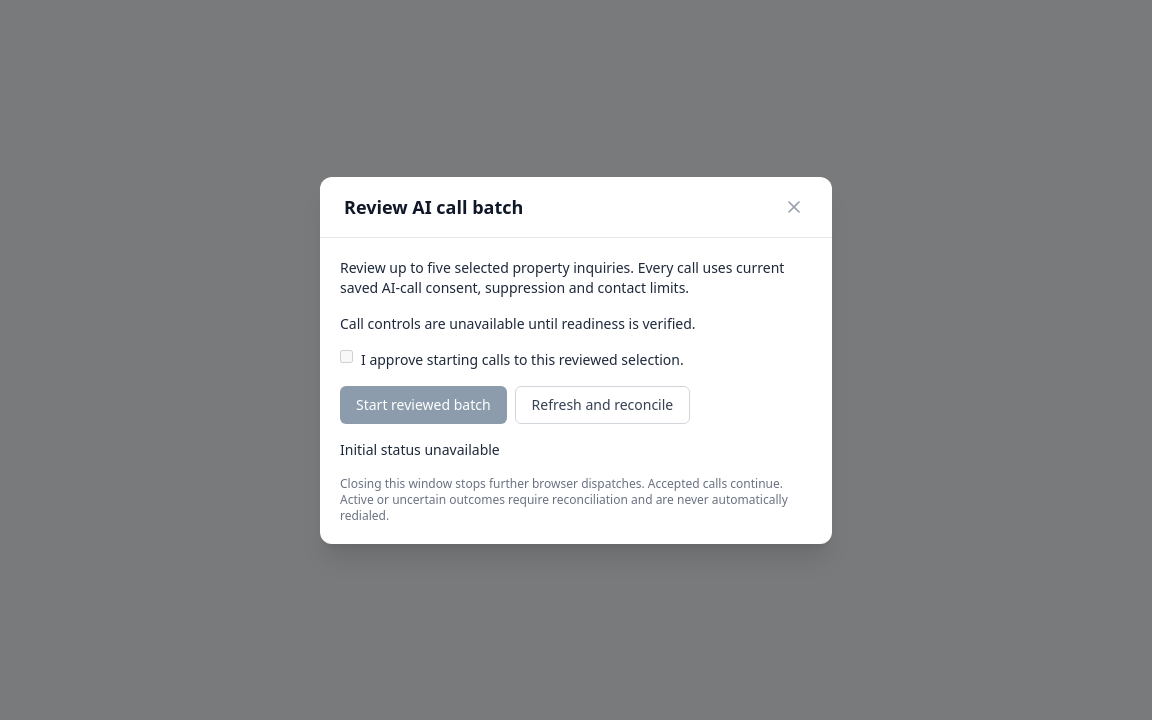
Scenario: recovers initial readiness failure by checking the saved batch before enabling controls
This screenshot has width=1152, height=720.
Expected: the text "Initial status unavailable" is shown, top-left (340, 440), bottom-right (500, 458)
Expected: the button "Start reviewed batch" is disabled, top-left (340, 386), bottom-right (507, 424)
Click the button "Refresh and reconcile": (602,404) top-left (515, 386), bottom-right (690, 424)
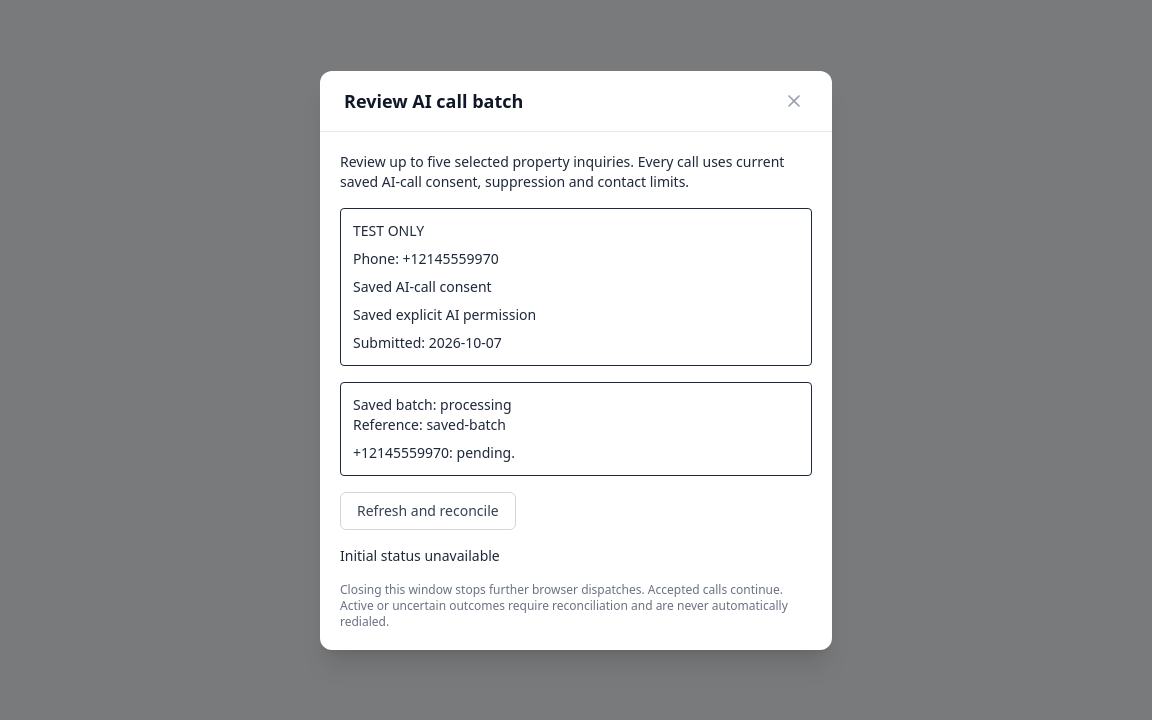
Now the text "Saved batch: processing" is shown, box top-left (353, 394), bottom-right (512, 414)
